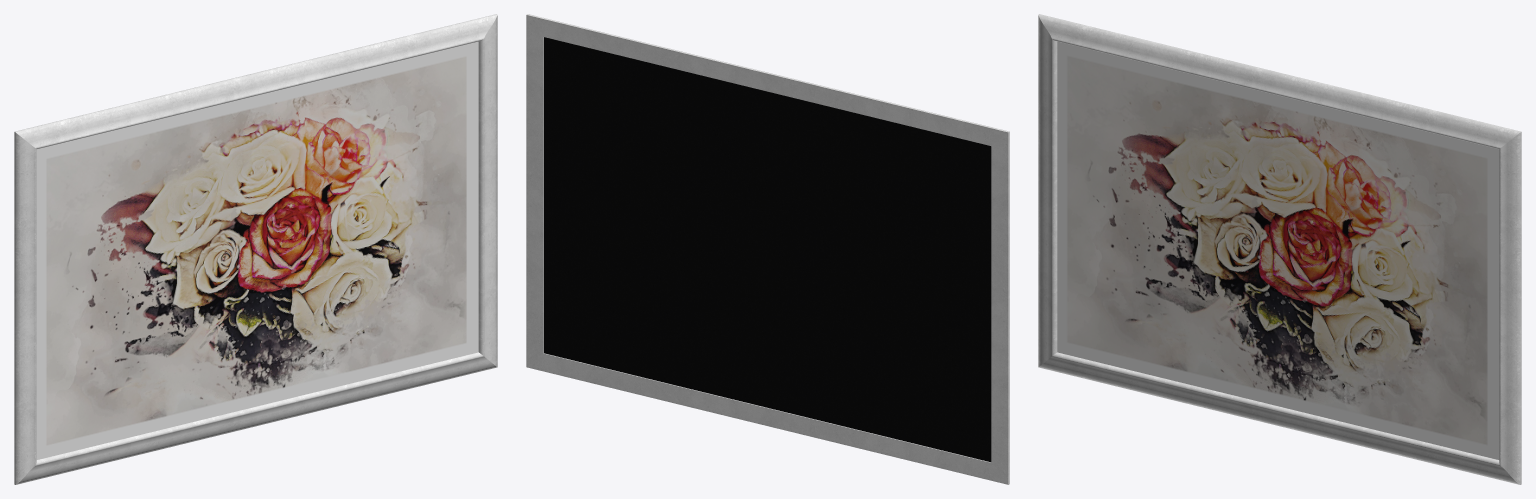
File: Picture02_1.FBX
The picture shows the model from 3 angles, left to right: view 1: azimuth 30°, elevation 25°; view 2: azimuth 150°, elevation 25°; view 3: azimuth 330°, elevation 25°; orthographic projection.
Visible parts, largest first — view 1: Picture02_1; view 2: Picture02_1; view 3: Picture02_1.
Boxes of the visible parts, <box> form: Picture02_1: <box>14,14,497,484</box>; Picture02_1: <box>526,14,1009,484</box>; Picture02_1: <box>1038,14,1521,484</box>.
Bounding box in the file's own units: 962 × 673 × 14.93.
